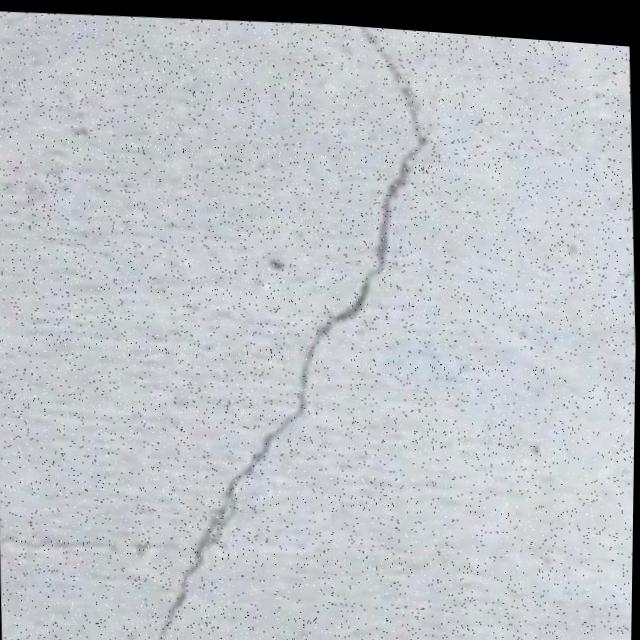Crack: (122, 8, 464, 640)
